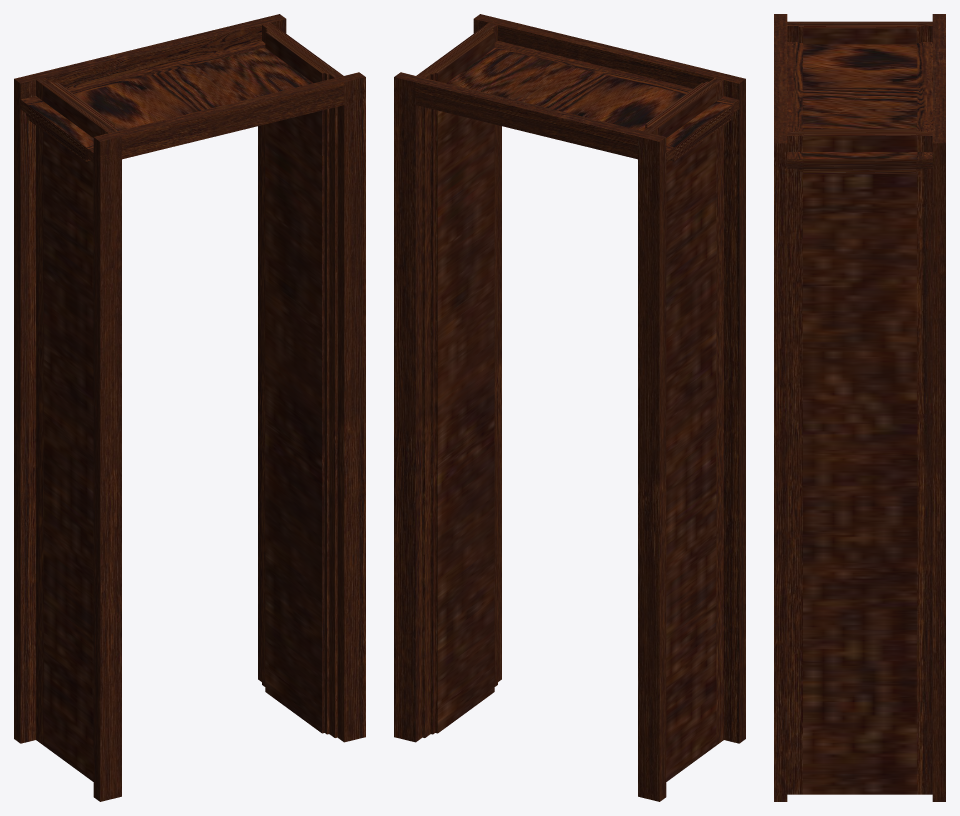
Rendered from door_frame.fbx.
The picture shows the model from 3 angles, left to right: view 1: azimuth 30°, elevation 25°; view 2: azimuth 150°, elevation 25°; view 3: azimuth 270°, elevation 25°; orthographic projection.
Visible parts, largest first — view 1: door_frame; view 2: door_frame; view 3: door_frame.
Part boxes in pixels (x1,y1,x2,y2): door_frame: (14, 14, 365, 801); door_frame: (394, 14, 745, 801); door_frame: (774, 14, 945, 801).
Bounding box in the file's own units: 84.16 × 200 × 47.25.
